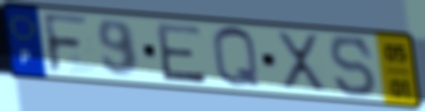9: (96, 17, 141, 80)
E: (153, 22, 210, 87)
F: (40, 11, 92, 76)
Q: (210, 24, 265, 91)
S: (327, 33, 380, 99)
X: (274, 29, 329, 96)
